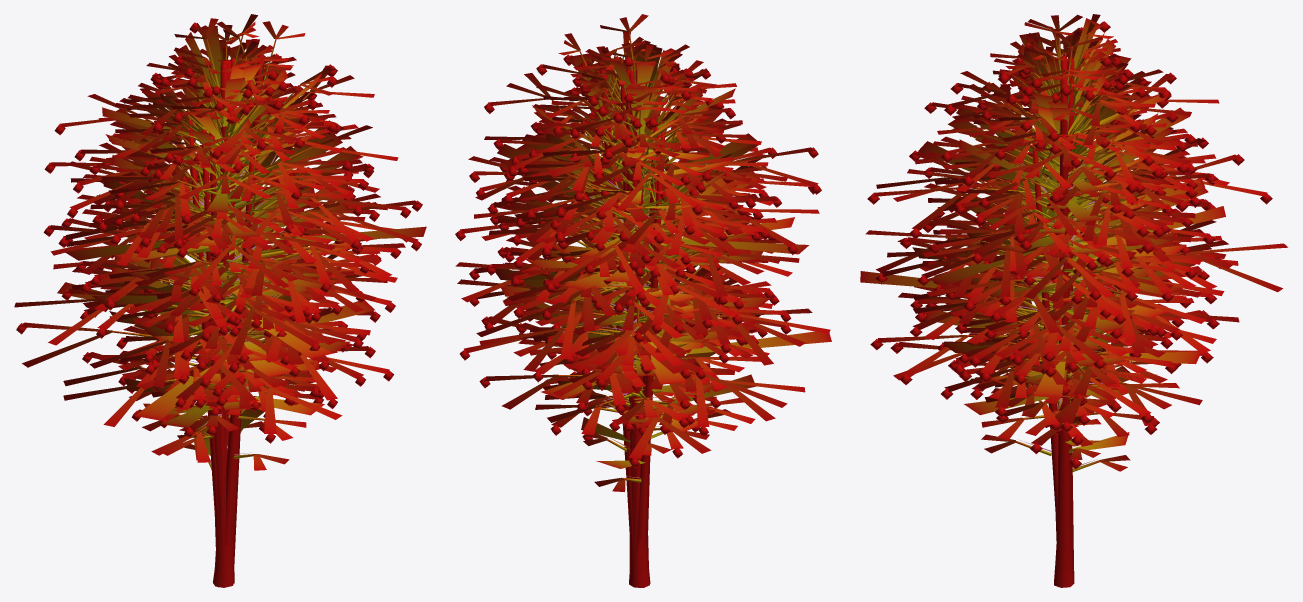
The model's file is rowan.glb.
3 views of the same model, side by side, from view 1: azimuth 30°, elevation 25°; view 2: azimuth 150°, elevation 25°; view 3: azimuth 270°, elevation 25° (orthographic). The views are drawn at different scales.
Visible parts, largest first — view 1: v9, v1, v7, v5, v3, v4, v6, v2, v0, v9_far, v8, v4_far (+8 smaller); view 2: v9, v3, v7, v5, v1, v2, v6, v4, v0, v9_far, v8, v4_far (+8 smaller); view 3: v9, v5, v7, v1, v6, v4, v3, v2, v0, v9_far, v5_far, v8 (+8 smaller).
Boxes of the visible parts, x1,y1,x2,y2 form: v9: (14, 63, 422, 462); v1: (66, 25, 370, 583); v7: (71, 39, 407, 404); v5: (80, 21, 401, 587); v3: (43, 42, 405, 402); v4: (105, 58, 364, 587); v6: (90, 14, 374, 310); v2: (61, 54, 352, 587); v0: (88, 60, 325, 587); v9_far: (57, 40, 426, 420); v8: (109, 18, 342, 415); v4_far: (116, 59, 350, 586); v9: (455, 45, 830, 467); v3: (504, 64, 799, 428); v7: (455, 47, 792, 407); v5: (457, 31, 758, 587); v1: (487, 44, 787, 587); v2: (485, 70, 791, 572); v6: (504, 14, 781, 312); v4: (509, 56, 769, 586); v0: (513, 67, 749, 573); v9_far: (495, 86, 831, 431); v8: (525, 40, 727, 417); v4_far: (535, 41, 755, 576); v9: (865, 57, 1287, 446); v5: (893, 29, 1233, 572); v7: (922, 37, 1229, 415); v1: (914, 14, 1217, 587); v6: (924, 22, 1196, 303); v4: (923, 62, 1197, 587); v3: (887, 36, 1226, 401); v2: (915, 60, 1215, 431); v0: (957, 48, 1195, 584); v9_far: (860, 55, 1205, 415); v5_far: (949, 59, 1176, 570); v8: (933, 14, 1201, 434).
Size of the model in its own units: 7.6 by 11.5 by 7.84.
